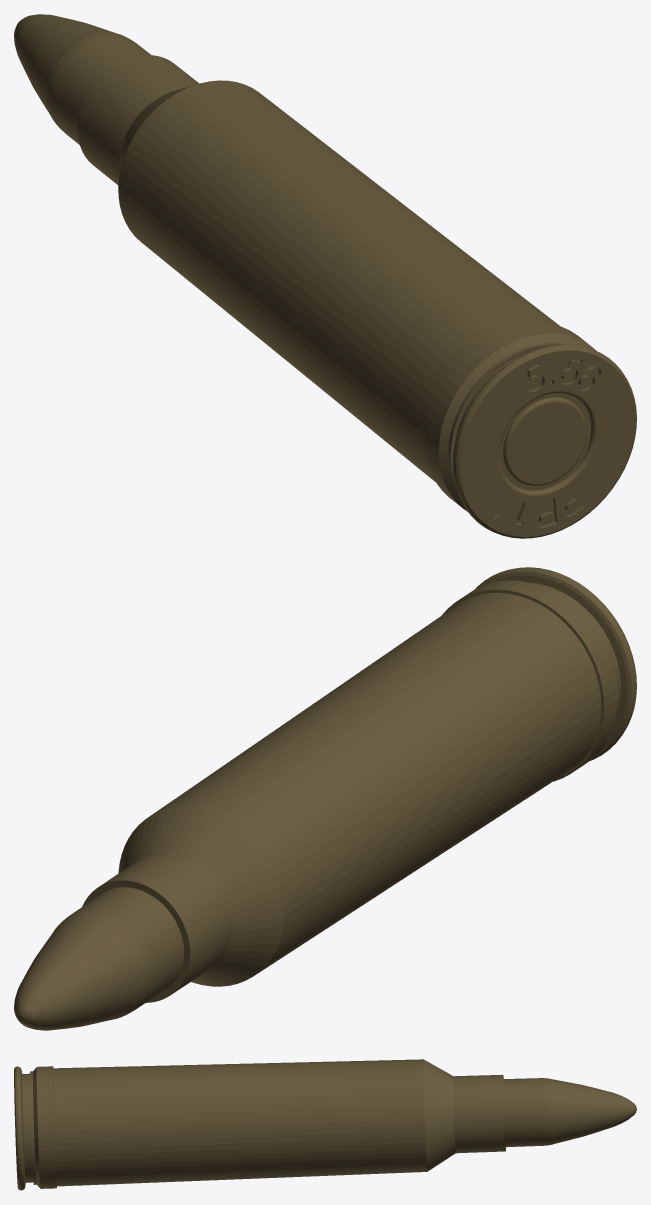
3 views of the same model, one above another, from view 1: azimuth 30°, elevation 25°; view 2: azimuth 150°, elevation 25°; view 3: azimuth 270°, elevation 25° (orthographic). The views are drawn at different scales.
Size of the model in its own units: 2.62e+09 by 2.8e+09 by 1.32e+10.
